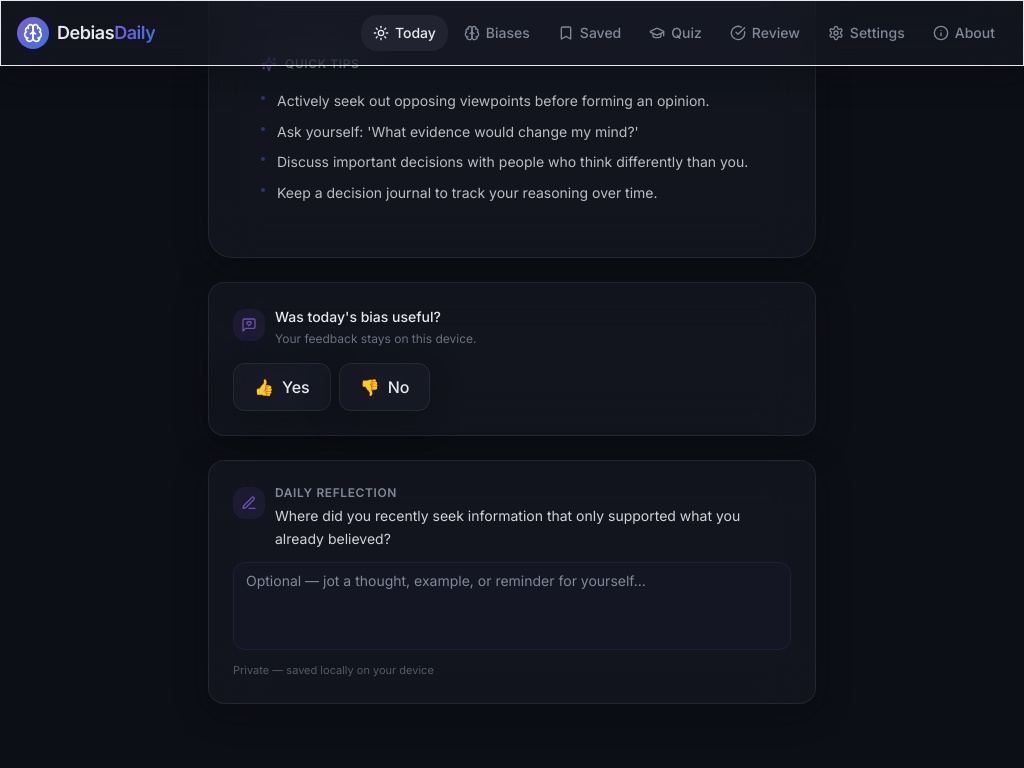
TodayPage › stores useful feedback locally and reveals optional comment field
(page scrolled)
Click the button "👍 Yes".
click(282, 387)  # box [233, 363, 331, 411]
(page scrolled)
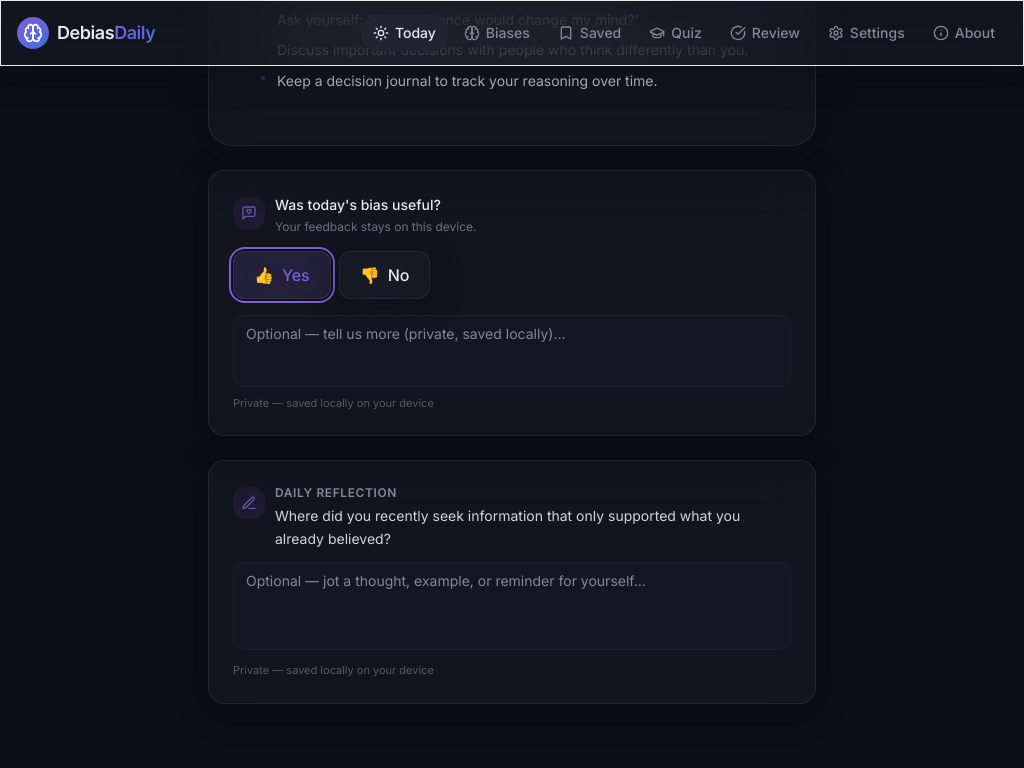
Expected: the text box named "optional feedback comment" is shown, [233, 315, 791, 387]
